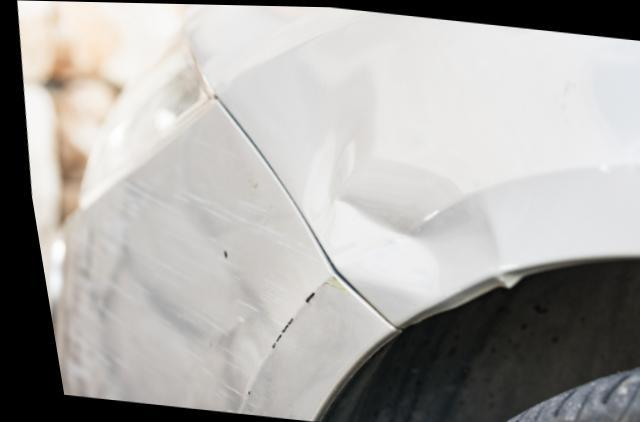dent: (301, 67, 493, 323)
scratch: (49, 160, 324, 416)
